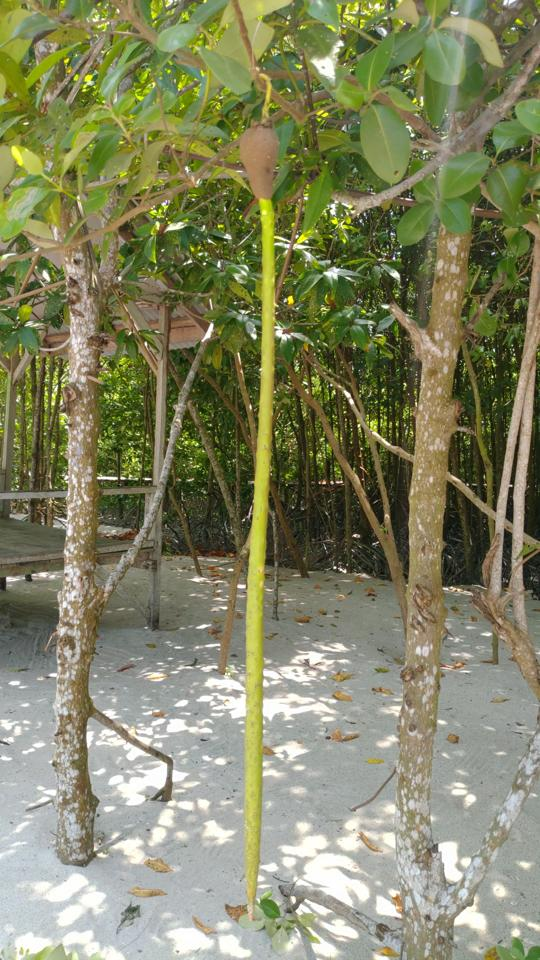mentah: (231, 97, 291, 930)
